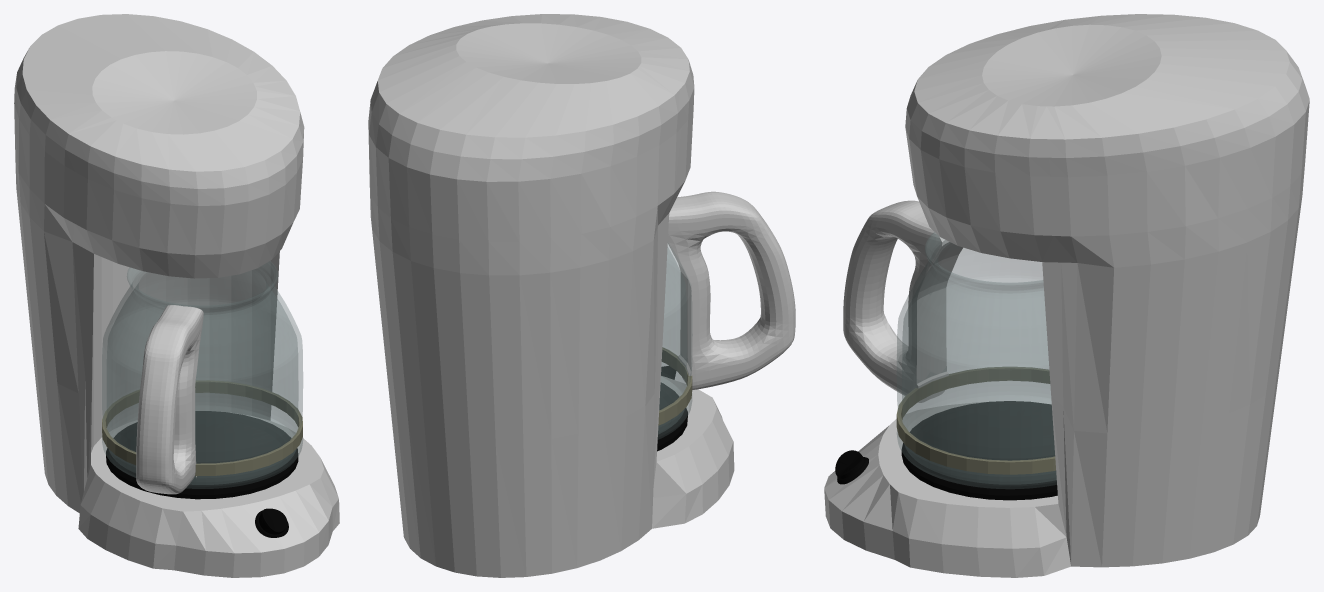
Rendered from coffee-maker.obj.
3 renders of one model, left to right at view 1: azimuth 30°, elevation 25°; view 2: azimuth 150°, elevation 25°; view 3: azimuth 270°, elevation 25°, orthographic. The views are drawn at different scales.
Visible parts, largest first — view 1: Mr._Coffee, Carafe, Carafe_handle, Hot_plate_&_switch, Carafe_band; view 2: Mr._Coffee, Carafe_handle, Carafe, Hot_plate_&_switch, Carafe_band; view 3: Mr._Coffee, Carafe, Carafe_handle, Hot_plate_&_switch, Carafe_band.
Part boxes in pixels (x1,y1,x2,y2): Mr._Coffee: [14, 14, 339, 577]; Carafe: [102, 261, 302, 488]; Carafe_handle: [136, 305, 203, 494]; Hot_plate_&_switch: [106, 411, 298, 537]; Carafe_band: [102, 380, 302, 476]; Mr._Coffee: [368, 14, 734, 577]; Carafe_handle: [667, 191, 795, 389]; Carafe: [658, 243, 692, 439]; Hot_plate_&_switch: [657, 366, 687, 451]; Carafe_band: [658, 347, 692, 425]; Mr._Coffee: [824, 14, 1309, 577]; Carafe: [897, 232, 1056, 488]; Carafe_handle: [843, 200, 962, 402]; Hot_plate_&_switch: [835, 401, 1057, 500]; Carafe_band: [896, 367, 1055, 474].
Bounding box in the file's own units: 1.11 × 1.8 × 1.72.
